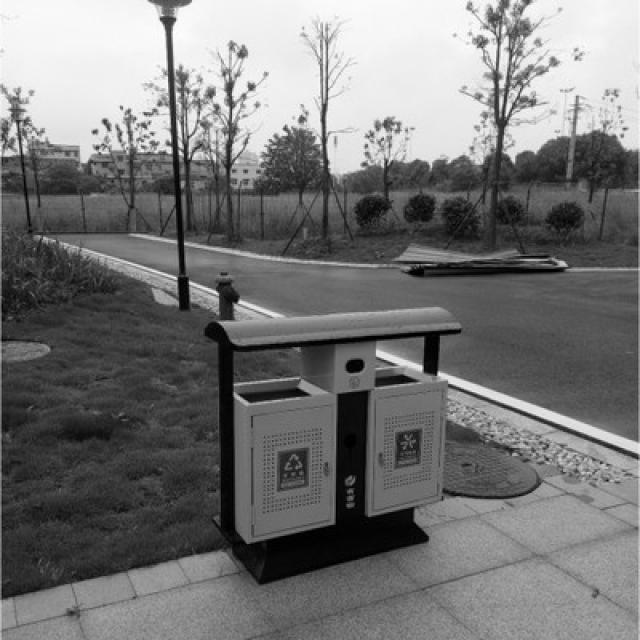ash bin: (203, 304, 461, 582)
fire_hydrant: (212, 267, 238, 317)
